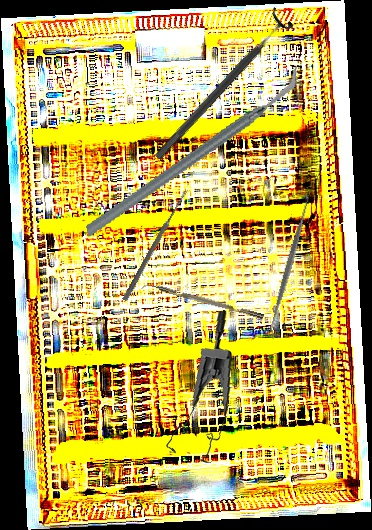Chopper: (62, 66, 323, 238), (140, 279, 265, 326)
Fixation Ring: (146, 6, 296, 168)
Spatula Surgical: (261, 193, 318, 337)
Speculum: (151, 309, 245, 468)
Surgical Spoon: (122, 188, 189, 302)
